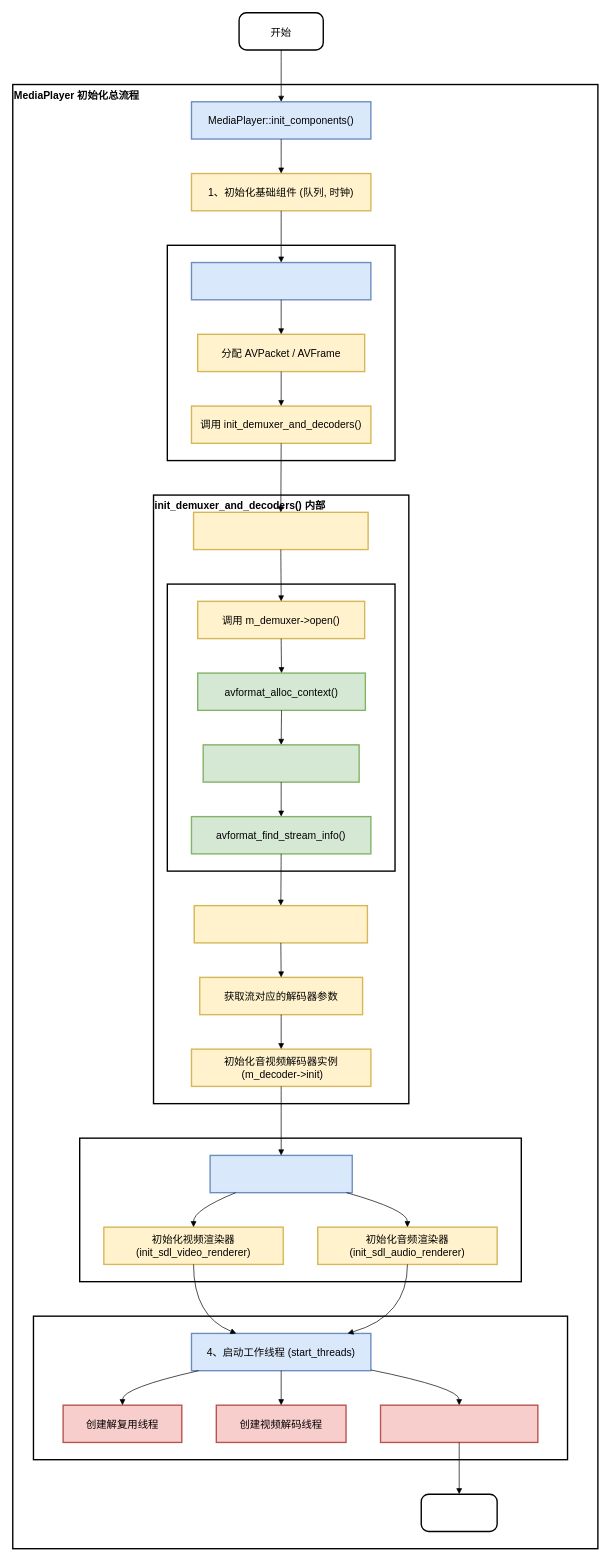
Image size: 610x1561. Some labels were removed from this diagram. Each missing label, with the box of its shape:
2、初始化FFmpeg资源 (init_ffmpeg_resources): (190, 262, 371, 300)
3、初始化SDL渲染器: (209, 1154, 353, 1193)
avformat_open_input(): (202, 744, 359, 782)
FFmpegDemuxer::open() 细节: (166, 583, 395, 871)
创建 FFmpegDemuxer 实例: (193, 511, 368, 550)
创建音频解码/渲染线程: (379, 1404, 538, 1443)
初始化完成: (420, 1493, 497, 1532)
查找音视频流 (findStream): (193, 905, 368, 943)
